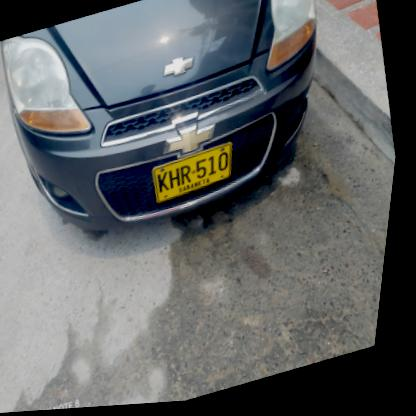placa: (149, 143, 246, 210)
